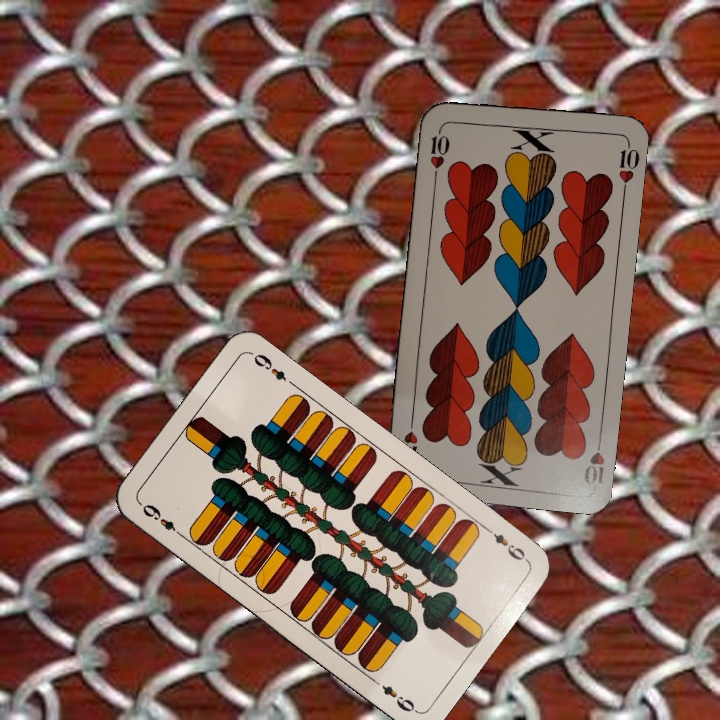E9: (480, 523, 531, 564), (138, 499, 186, 540)
H10: (426, 122, 453, 181), (580, 429, 607, 488)
